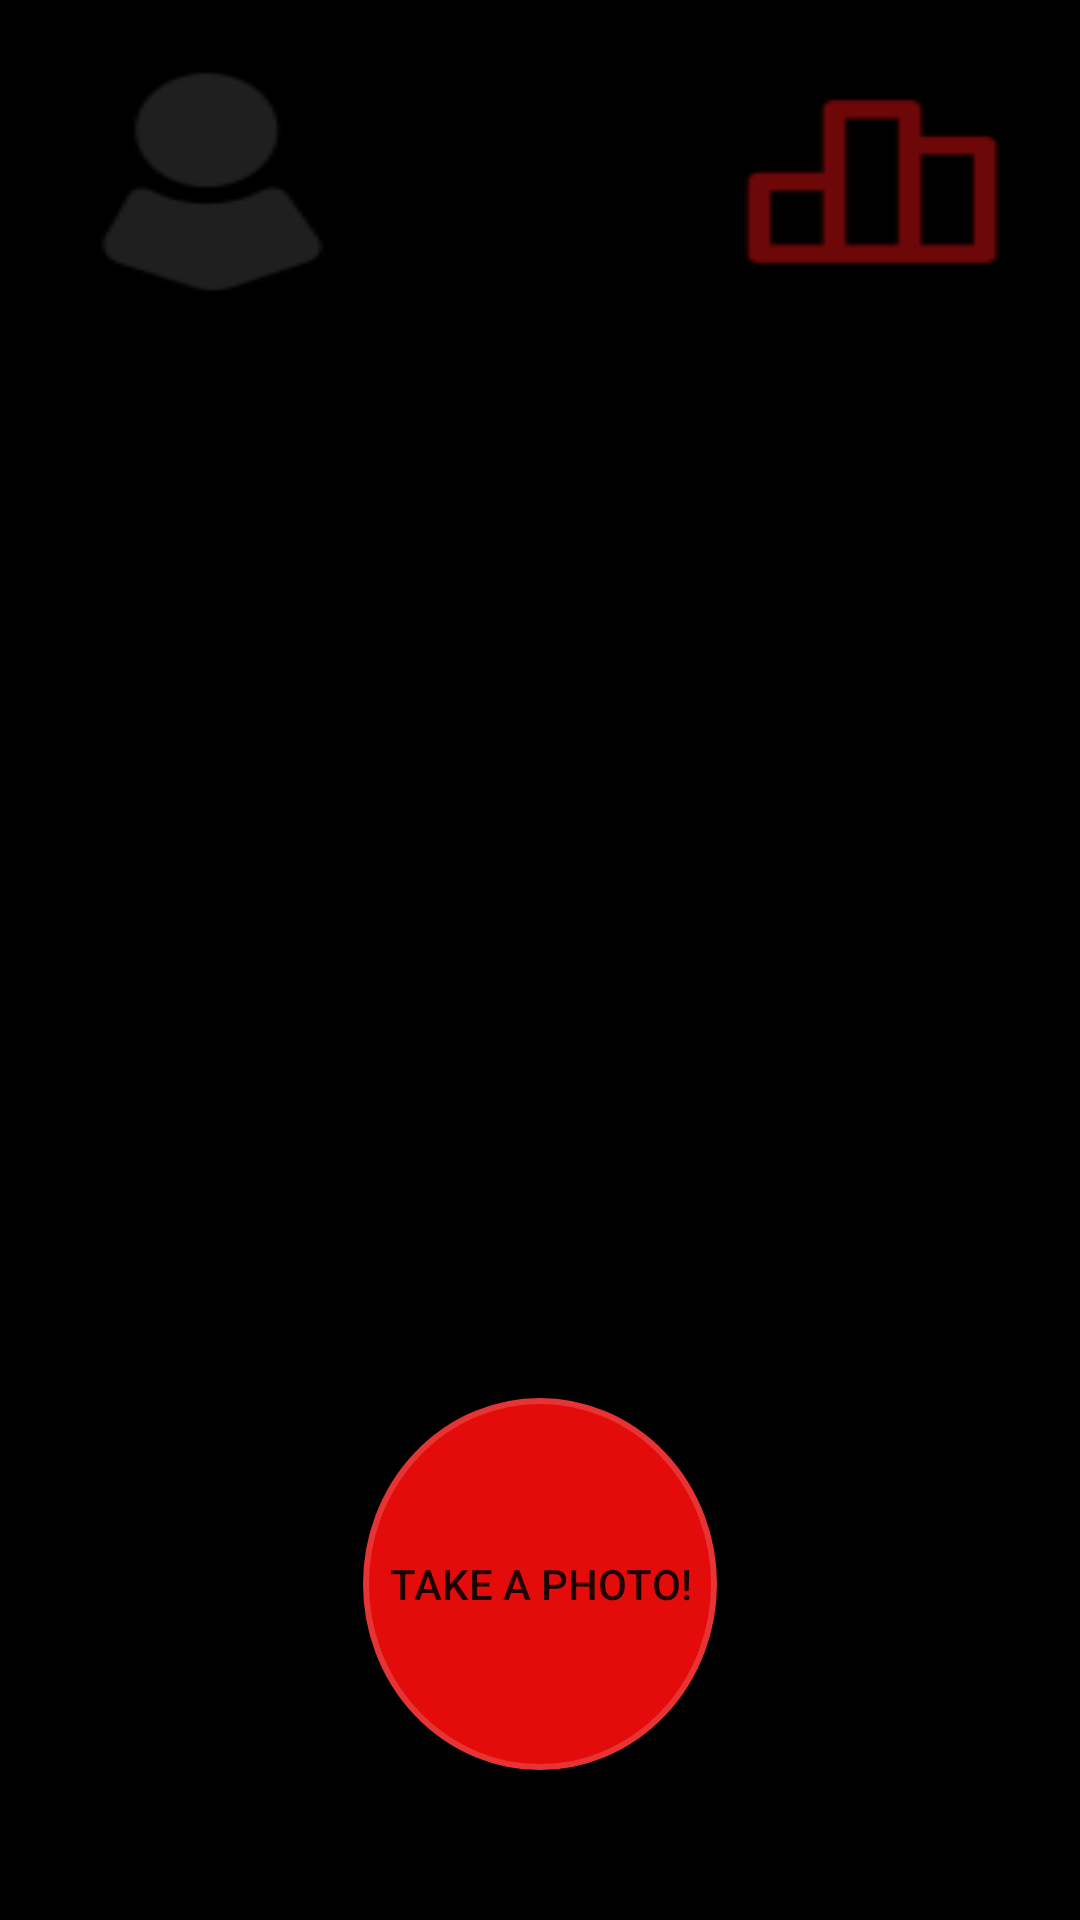

Where to tap for icons on this 1080×1920 app screen, as [x,y]:
leaderboard: [872,181]
profile: [212,181]
